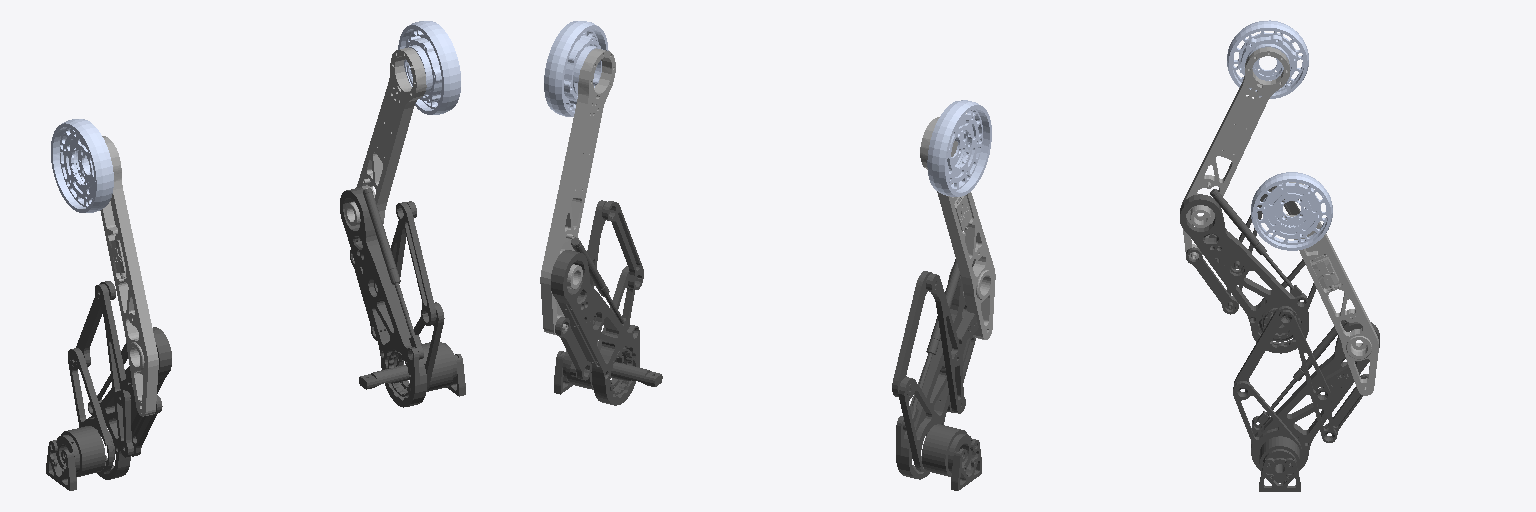
URDF robot description (fourth_version_with_meshes):
<?xml version="1.0" encoding="utf-8"?>
<!-- This URDF was automatically created by SolidWorks to URDF Exporter! Originally created by Stephen Brawner (brawner@gmail.com) 
     Commit Version: 1.6.0-4-g7f85cfe  Build Version: 1.6.7995.38578
     For more information, please see http://wiki.ros.org/sw_urdf_exporter -->
<robot
  name="fourth_version_with_meshes">
  <link
    name="base_link">
    <inertial>
      <origin
        xyz="0.00226876319773072 -0.00157941838288627 -0.0663421142621067"
        rpy="0 0 0" />
      <mass
        value="23.6411642401116" />
      <inertia
        ixx="0.0618163109517232"
        ixy="0.000114327973356792"
        ixz="-6.66143963109807E-05"
        iyy="0.0455766747338867"
        iyz="-0.000147425358437738"
        izz="0.0780399221790867" />
    </inertial>
    <visual>
      <origin
        xyz="0 0 0"
        rpy="0 0 0" />
      <geometry>
        <mesh
          filename="package://fourth_version_with_meshes/meshes/base_link.STL" />
      </geometry>
      <material
        name="">
        <color
          rgba="0.752941176470588 0.752941176470588 0.752941176470588 1" />
      </material>
    </visual>
    <collision>
      <origin
        xyz="0 0 0"
        rpy="0 0 0" />
      <geometry>
        <mesh
          filename="package://fourth_version_with_meshes/meshes/base_link.STL" />
      </geometry>
    </collision>
  </link>
  <link
    name="r0_link">
    <inertial>
      <origin
        xyz="0.0167578219426779 0.0482311354708751 0.00119163688747986"
        rpy="0 0 0" />
      <mass
        value="0.649223655816058" />
      <inertia
        ixx="0.00124113543877808"
        ixy="-0.00040252665213365"
        ixz="8.56379943736194E-07"
        iyy="0.000718567381818494"
        iyz="-3.17694254251921E-06"
        izz="0.00165558280621419" />
    </inertial>
    <visual>
      <origin
        xyz="0 0 0"
        rpy="0 0 0" />
      <geometry>
        <mesh
          filename="package://fourth_version_with_meshes/meshes/r0_link.STL" />
      </geometry>
      <material
        name="">
        <color
          rgba="0.411764705882353 0.411764705882353 0.411764705882353 1" />
      </material>
    </visual>
    <collision>
      <origin
        xyz="0 0 0"
        rpy="0 0 0" />
      <geometry>
        <mesh
          filename="package://fourth_version_with_meshes/meshes/r0_link.STL" />
      </geometry>
    </collision>
  </link>
  <joint
    name="right_large_leg"
    type="fixed">
    <origin
      xyz="0.231399999999991 0 -0.03345"
      rpy="1.5707963267949 0 1.5707963267949" />
    <parent
      link="base_link" />
    <child
      link="r0_link" />
    <axis
      xyz="0 0 0" />
    <limit
      lower="-100"
      upper="100"
      effort="30"
      velocity="1000" />
  </joint>
  <link
    name="r1_link">
    <inertial>
      <origin
        xyz="-0.0293297877134864 0.0711186610630009 0.0100212160168059"
        rpy="0 0 0" />
      <mass
        value="0.184645451937383" />
      <inertia
        ixx="0.00116172968607435"
        ixy="0.000454500047246866"
        ixz="-8.63561736576284E-07"
        iyy="0.000240189672716811"
        iyz="2.10842825579153E-06"
        izz="0.00138693880366454" />
    </inertial>
    <visual>
      <origin
        xyz="0 0 0"
        rpy="0 0 0" />
      <geometry>
        <mesh
          filename="package://fourth_version_with_meshes/meshes/r1_link.STL" />
      </geometry>
      <material
        name="">
        <color
          rgba="0.698039215686274 0.698039215686274 0.698039215686274 1" />
      </material>
    </visual>
    <collision>
      <origin
        xyz="0 0 0"
        rpy="0 0 0" />
      <geometry>
        <mesh
          filename="package://fourth_version_with_meshes/meshes/r1_link.STL" />
      </geometry>
    </collision>
  </link>
  <joint
    name="right_small_leg"
    type="fixed">
    <origin
      xyz="0.115798033541798 0.175187943157778 -0.0114999999999919"
      rpy="0 0 0" />
    <parent
      link="r0_link" />
    <child
      link="r1_link" />
    <axis
      xyz="0 0 0" />
    <limit
      lower="-100"
      upper="100"
      effort="30"
      velocity="1000" />
  </joint>
  <link
    name="right_wheel">
    <inertial>
      <origin
        xyz="0.000355545092468459 0.00111666133244492 0.00256116621997132"
        rpy="0 0 0" />
      <mass
        value="0.187589280591433" />
      <inertia
        ixx="0.000166158765194248"
        ixy="1.93512573318295E-06"
        ixz="-1.13255167614166E-05"
        iyy="0.000168433685718748"
        iyz="-5.54056106579676E-07"
        izz="0.000325028670068842" />
    </inertial>
    <visual>
      <origin
        xyz="0 0 0"
        rpy="0 0 0" />
      <geometry>
        <mesh
          filename="package://fourth_version_with_meshes/meshes/right_wheel.STL" />
      </geometry>
      <material
        name="">
        <color
          rgba="0.866666666666667 0.909803921568627 1 1" />
      </material>
    </visual>
    <collision>
      <origin
        xyz="0 0 0"
        rpy="0 0 0" />
      <geometry>
        <mesh
          filename="package://fourth_version_with_meshes/meshes/right_wheel.STL" />
      </geometry>
    </collision>
  </link>
  <joint
    name="right_wheel"
    type="fixed">
    <origin
      xyz="-0.098368536785088 0.229833920409416 0.0396000000000004"
      rpy="3.14159265358979 -0.068782614576242 -3.14159265358979" />
    <parent
      link="r1_link" />
    <child
      link="right_wheel" />
    <axis
      xyz="0 0 0" />
    <limit
      lower="-100"
      upper="100"
      effort="30"
      velocity="1000" />
  </joint>
  <link
    name="l0_link">
    <inertial>
      <origin
        xyz="0.0303614916726573 0.0701715476226769 0.00178243203061099"
        rpy="0 0 0" />
      <mass
        value="0.655104306382181" />
      <inertia
        ixx="0.00178053968388785"
        ixy="-0.000841219662666294"
        ixz="-3.07715344837112E-07"
        iyy="0.00094427087296882"
        iyz="-6.18990522267387E-06"
        izz="0.00267737655778862" />
    </inertial>
    <visual>
      <origin
        xyz="0 0 0"
        rpy="0 0 0" />
      <geometry>
        <mesh
          filename="package://fourth_version_with_meshes/meshes/l0_link.STL" />
      </geometry>
      <material
        name="">
        <color
          rgba="0.411764705882353 0.411764705882353 0.411764705882353 1" />
      </material>
    </visual>
    <collision>
      <origin
        xyz="0 0 0"
        rpy="0 0 0" />
      <geometry>
        <mesh
          filename="package://fourth_version_with_meshes/meshes/l0_link.STL" />
      </geometry>
    </collision>
  </link>
  <joint
    name="left_large_leg"
    type="fixed">
    <origin
      xyz="-0.223999999999999 0 -0.0334499999999999"
      rpy="1.5707963267949 0 -1.5707963267949" />
    <parent
      link="base_link" />
    <child
      link="l0_link" />
    <axis
      xyz="0 0 0" />
    <limit
      lower="-100"
      upper="100"
      effort="30"
      velocity="1000" />
  </joint>
  <link
    name="l1_link">
    <inertial>
      <origin
        xyz="0.0298652060884402 -0.07250722942879 0.00996666337546037"
        rpy="0 0 0" />
      <mass
        value="0.190041656335033" />
      <inertia
        ixx="0.00116299355444051"
        ixy="0.00045487039404493"
        ixz="8.6356173657743E-07"
        iyy="0.000240691235892917"
        iyz="-2.10842825579443E-06"
        izz="0.00138869614090021" />
    </inertial>
    <visual>
      <origin
        xyz="0 0 0"
        rpy="0 0 0" />
      <geometry>
        <mesh
          filename="package://fourth_version_with_meshes/meshes/l1_link.STL" />
      </geometry>
      <material
        name="">
        <color
          rgba="0.698039215686274 0.698039215686274 0.698039215686274 1" />
      </material>
    </visual>
    <collision>
      <origin
        xyz="0 0 0"
        rpy="0 0 0" />
      <geometry>
        <mesh
          filename="package://fourth_version_with_meshes/meshes/l1_link.STL" />
      </geometry>
    </collision>
  </link>
  <joint
    name="left_small_link"
    type="fixed">
    <origin
      xyz="0.115798033541797 0.175187943157778 -0.00410000000000058"
      rpy="0 0 3.14159265358979" />
    <parent
      link="l0_link" />
    <child
      link="l1_link" />
    <axis
      xyz="0 0 0" />
    <limit
      lower="-100"
      upper="100"
      effort="30"
      velocity="1000" />
  </joint>
  <link
    name="left_wheel">
    <inertial>
      <origin
        xyz="0.000516948908384749 -0.00108762775944615 0.0105417035612281"
        rpy="0 0 0" />
      <mass
        value="0.186836731538156" />
      <inertia
        ixx="0.000165163038842666"
        ixy="-1.81843207145813E-06"
        ixz="3.25468138188432E-07"
        iyy="0.000168119796001924"
        iyz="-6.8574406968186E-07"
        izz="0.000325324482219905" />
    </inertial>
    <visual>
      <origin
        xyz="0 0 0"
        rpy="0 0 0" />
      <geometry>
        <mesh
          filename="package://fourth_version_with_meshes/meshes/left_wheel.STL" />
      </geometry>
      <material
        name="">
        <color
          rgba="0.866666666666667 0.909803921568627 1 1" />
      </material>
    </visual>
    <collision>
      <origin
        xyz="0 0 0"
        rpy="0 0 0" />
      <geometry>
        <mesh
          filename="package://fourth_version_with_meshes/meshes/left_wheel.STL" />
      </geometry>
    </collision>
  </link>
  <joint
    name="left_wheel"
    type="fixed">
    <origin
      xyz="0.0983685367850881 -0.229833920409416 0.0265999999999998"
      rpy="0 0 0" />
    <parent
      link="l1_link" />
    <child
      link="left_wheel" />
    <axis
      xyz="0 0 0" />
    <limit
      lower="-100"
      upper="100"
      effort="30"
      velocity="1000" />
  </joint>
</robot>

--- Facts derived from the render (not from the file) ---
Views: 3 orthographic renders of the robot side by side, from view 1: azimuth 30°, elevation 25°; view 2: azimuth 150°, elevation 25°; view 3: azimuth 270°, elevation 25°.
Robot: fourth_version_with_meshes — 7 links, 6 joints (6 fixed); root link base_link; default pose: all joints at 0.
Visible links, largest first — view 1: r0_link, l0_link, l1_link, r1_link, left_wheel, right_wheel; view 2: l0_link, r0_link, r1_link, left_wheel, l1_link, right_wheel; view 3: r0_link, l0_link, l1_link, right_wheel, r1_link, left_wheel.
Boxes of the visible links, box(x1,y1,x2,y2) form: r0_link: box(340, 187, 465, 407); l0_link: box(46, 281, 171, 490); l1_link: box(100, 136, 158, 416); r1_link: box(345, 47, 426, 260); left_wheel: box(51, 119, 113, 212); right_wheel: box(398, 21, 460, 114); l0_link: box(892, 259, 981, 490); r0_link: box(551, 200, 662, 405); r1_link: box(540, 48, 615, 334); left_wheel: box(927, 100, 991, 196); l1_link: box(920, 117, 995, 339); right_wheel: box(544, 21, 608, 116); r0_link: box(1233, 306, 1379, 491); l0_link: box(1180, 186, 1325, 353); l1_link: box(1181, 47, 1289, 259); right_wheel: box(1251, 172, 1332, 250); r1_link: box(1284, 182, 1378, 395); left_wheel: box(1227, 20, 1308, 98).
Bounding box of the posed robot: 0.574 × 0.2933 × 0.5073 m (x, y, z).
6 mesh visuals loaded from 7 distinct referenced files (6 binary STL); not drawn: 1 (reference not matched to a file when rendering).
